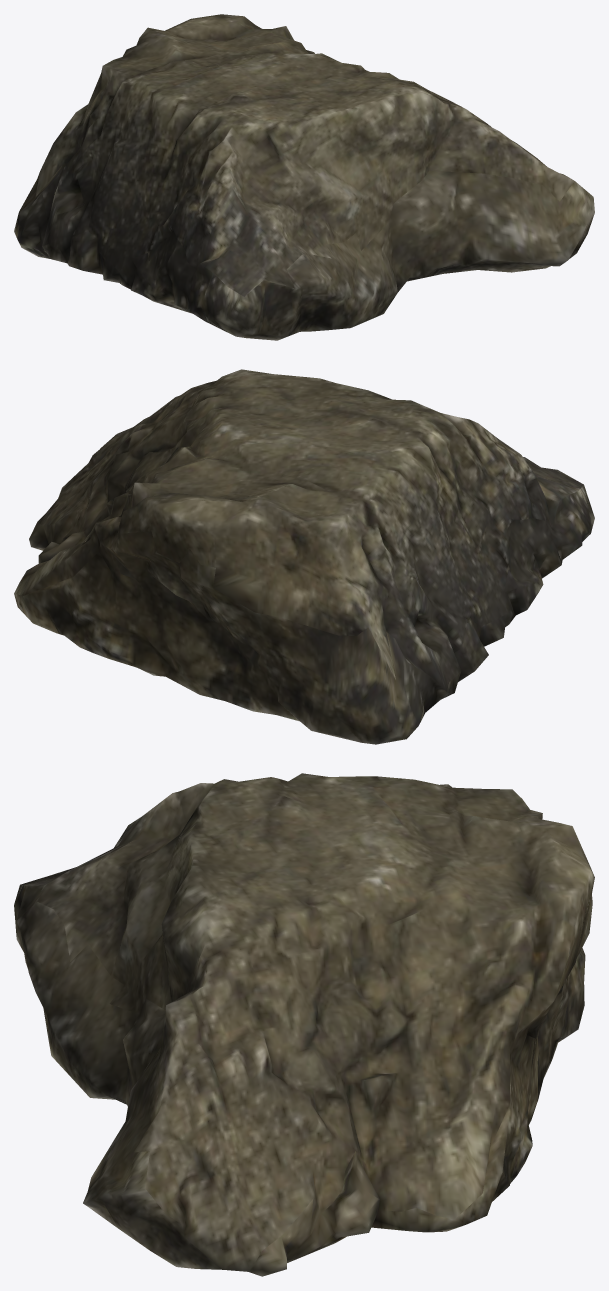
The model's file is rock_01_lod1.glb.
3 views of the same model, one above another, from view 1: azimuth 30°, elevation 25°; view 2: azimuth 150°, elevation 25°; view 3: azimuth 270°, elevation 25° (orthographic). The views are drawn at different scales.
Visible parts, largest first — view 1: Rock_01_LOD1; view 2: Rock_01_LOD1; view 3: Rock_01_LOD1.
Part boxes in pixels (x1,y1,x2,y2): Rock_01_LOD1: [14, 14, 594, 340]; Rock_01_LOD1: [14, 369, 594, 744]; Rock_01_LOD1: [14, 773, 594, 1276].
Bounding box in the file's own units: 1.2 × 0.5262 × 0.9833.
1 material, 1 textured.
